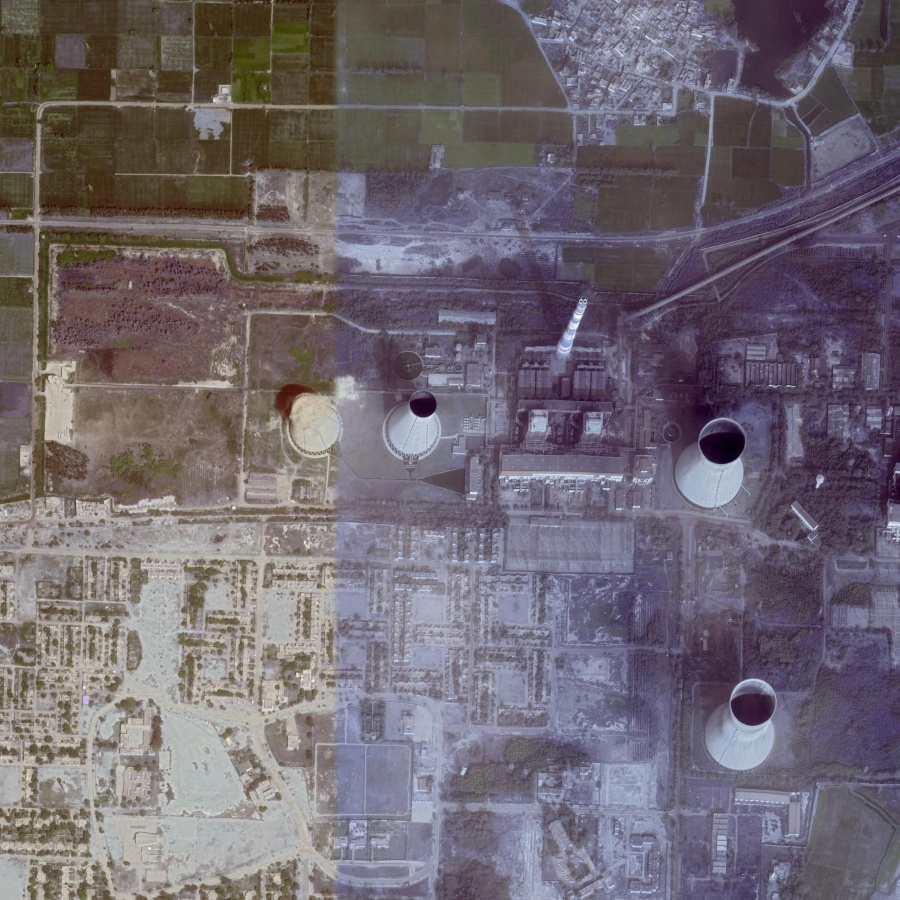PowerPlant: (278, 221, 754, 517)
